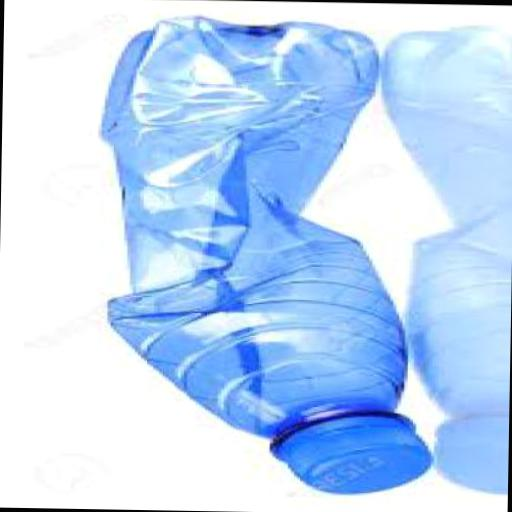plastic: (92, 14, 442, 492), (266, 406, 435, 495)
